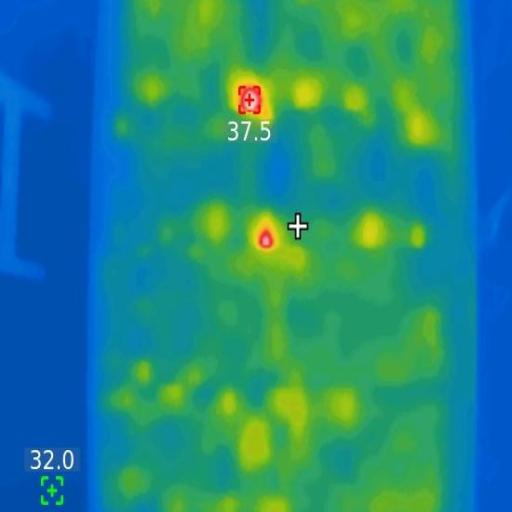hotspot: (236, 83, 264, 119), (256, 225, 276, 250)
